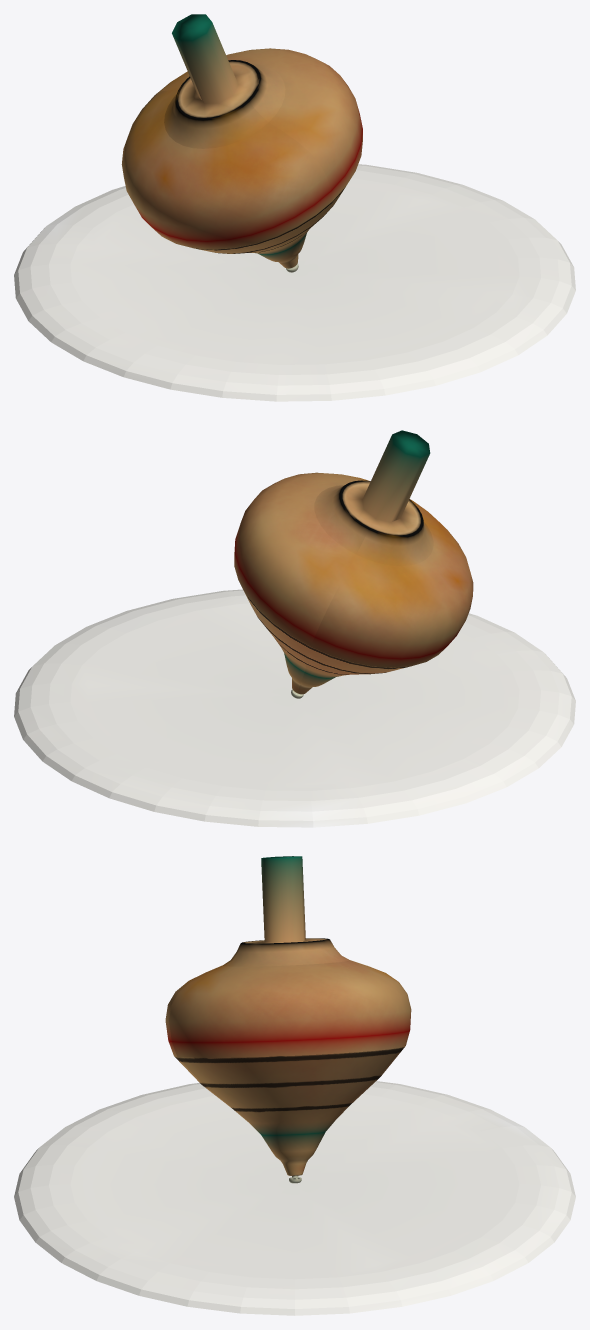
3 renders of one model, top to bottom at view 1: azimuth 30°, elevation 25°; view 2: azimuth 150°, elevation 25°; view 3: azimuth 270°, elevation 25°, orthographic.
Parts seen in each view (by area): view 1: ground, Object_11; view 2: ground, Object_11; view 3: ground, Object_11.
Part boxes in pixels (bbox=[...]): ground: bbox=[14, 164, 575, 401]; Object_11: bbox=[121, 14, 362, 272]; ground: bbox=[14, 589, 575, 827]; Object_11: bbox=[234, 430, 473, 698]; ground: bbox=[14, 1081, 575, 1315]; Object_11: bbox=[165, 856, 411, 1183].
Bounding box in the file's own units: 3.22 × 1.86 × 3.22.
Materials: 2 (1 with a texture image).
